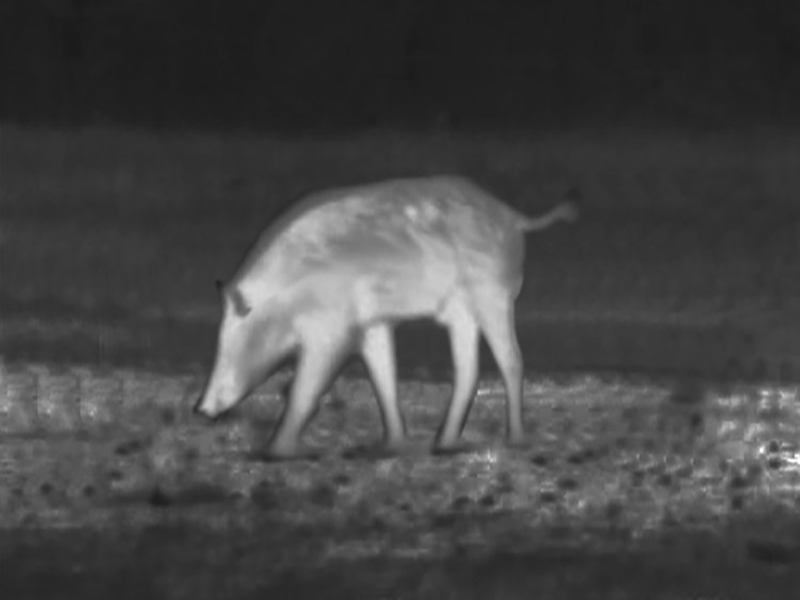cinghiale: (198, 177, 540, 456)
